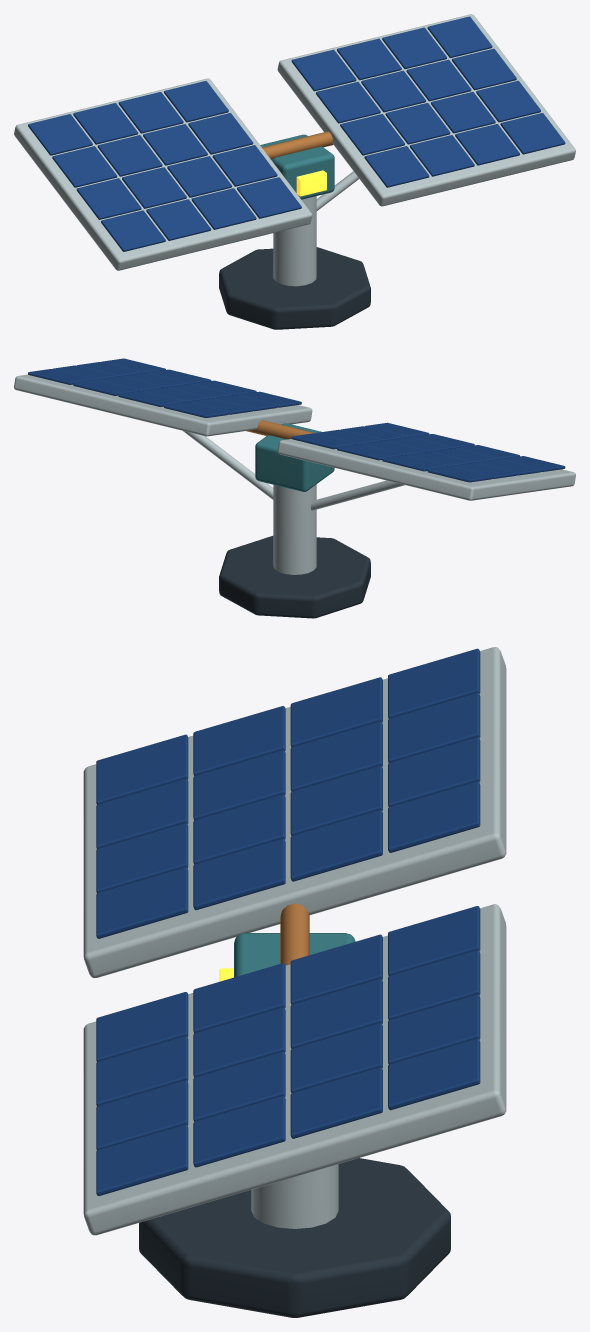
The model's file is solar.glb.
3 views of the same model, one above another, from view 1: azimuth 30°, elevation 25°; view 2: azimuth 150°, elevation 25°; view 3: azimuth 270°, elevation 25° (orthographic). The views are drawn at different scales.
Visible parts, largest first — view 1: Solar wing frame, Solar wing frame.001, Solar foundation, Tracking pedestal, Tracking gearbox, Photovoltaic cell.008, Photovoltaic cell.016, Photovoltaic cell.001, Photovoltaic cell.002, Photovoltaic cell.023, Photovoltaic cell.007, Photovoltaic cell.009 (+28 smaller); view 2: Solar foundation, Solar wing frame, Solar wing frame.001, Tracking pedestal, Tracking gearbox, Solar support strut.001, Solar support strut, Panel crossarm, Photovoltaic cell.003, Photovoltaic cell.019, Photovoltaic cell.015, Photovoltaic cell.027 (+28 smaller); view 3: Solar foundation, Solar wing frame.001, Solar wing frame, Photovoltaic cell.013, Photovoltaic cell.014, Photovoltaic cell.030, Photovoltaic cell.012, Photovoltaic cell.015, Photovoltaic cell.029, Photovoltaic cell.028, Photovoltaic cell.031, Tracking pedestal (+26 smaller).
Part boxes in pixels (box(x1,y1,x2,y2)): Solar wing frame: box(14, 78, 312, 270); Solar wing frame.001: box(277, 14, 575, 206); Solar foundation: box(219, 247, 370, 329); Tracking pedestal: box(273, 196, 316, 286); Tracking gearbox: box(260, 134, 334, 199); Photovoltaic cell.008: box(191, 188, 256, 229); Photovoltaic cell.016: box(364, 146, 429, 187); Photovoltaic cell.001: box(76, 178, 141, 219); Photovoltaic cell.002: box(52, 146, 117, 187); Photovoltaic cell.023: box(337, 38, 401, 80); Photovoltaic cell.007: box(73, 103, 138, 144); Photovoltaic cell.009: box(167, 156, 232, 197); Solar foundation: box(219, 536, 370, 618); Solar wing frame: box(277, 439, 575, 500); Solar wing frame.001: box(14, 374, 312, 436); Tracking pedestal: box(273, 484, 316, 574); Tracking gearbox: box(255, 423, 334, 491); Solar support strut.001: box(182, 430, 273, 499); Solar support strut: box(310, 480, 404, 510); Panel crossarm: box(246, 420, 315, 439); Photovoltaic cell.003: box(427, 466, 492, 482); Photovoltaic cell.019: box(164, 402, 228, 417); Photovoltaic cell.015: box(291, 433, 356, 449); Photovoltaic cell.027: box(73, 380, 138, 395); Solar foundation: box(139, 1158, 450, 1317); Solar wing frame.001: box(83, 904, 506, 1235); Solar wing frame: box(83, 647, 506, 978); Photovoltaic cell.013: box(193, 838, 285, 910); Photovoltaic cell.014: box(290, 810, 382, 881); Photovoltaic cell.030: box(290, 1067, 382, 1138); Photovoltaic cell.012: box(96, 867, 188, 938); Photovoltaic cell.015: box(388, 781, 480, 852); Photovoltaic cell.029: box(193, 1096, 285, 1167); Photovoltaic cell.028: box(96, 1124, 188, 1195); Photovoltaic cell.031: box(388, 1038, 480, 1110); Tracking pedestal: box(251, 1164, 338, 1228).
Bounding box in the file's own units: 4.35 × 1.77 × 1.73.
